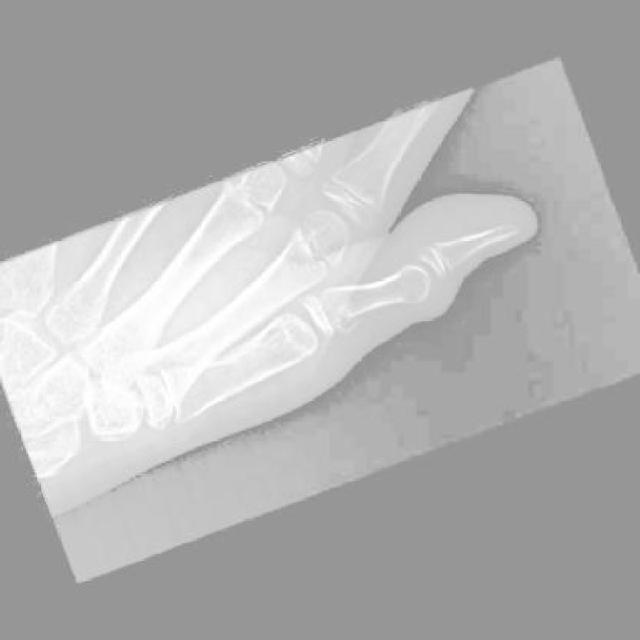Fracture: (319, 280, 373, 342)
